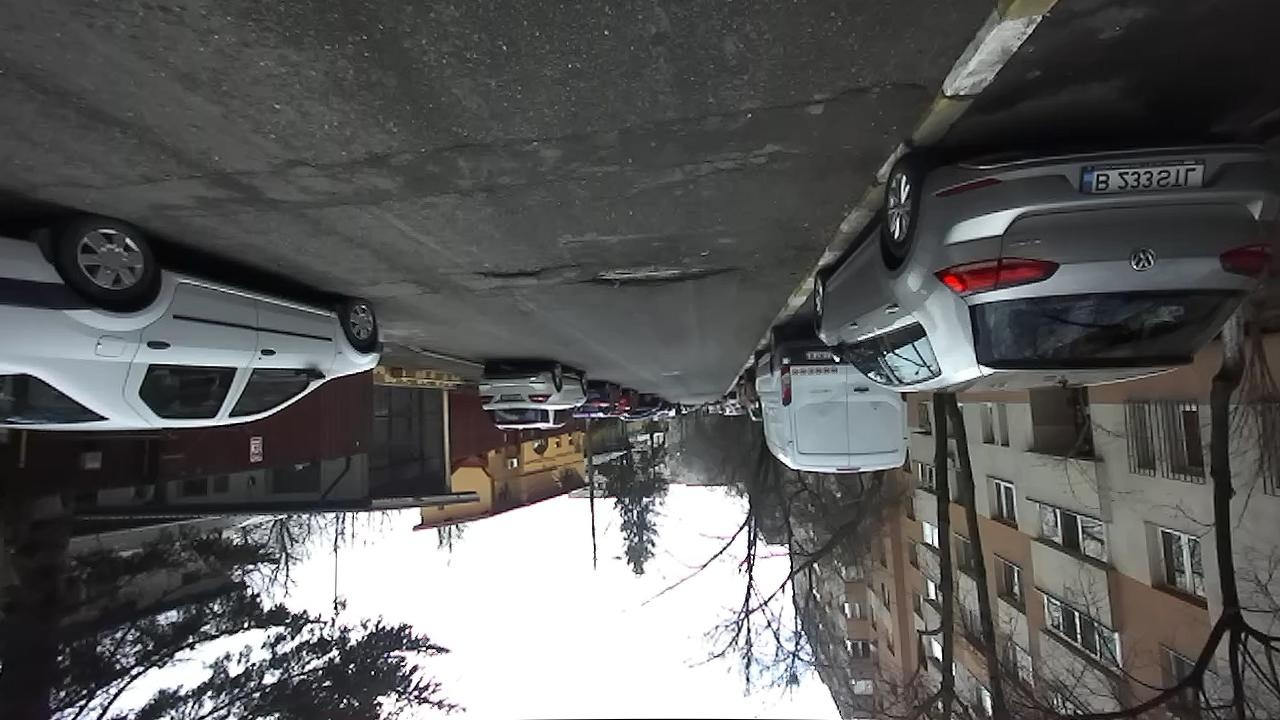pothole: (583, 259, 740, 291), (775, 76, 924, 109), (469, 262, 550, 282)
